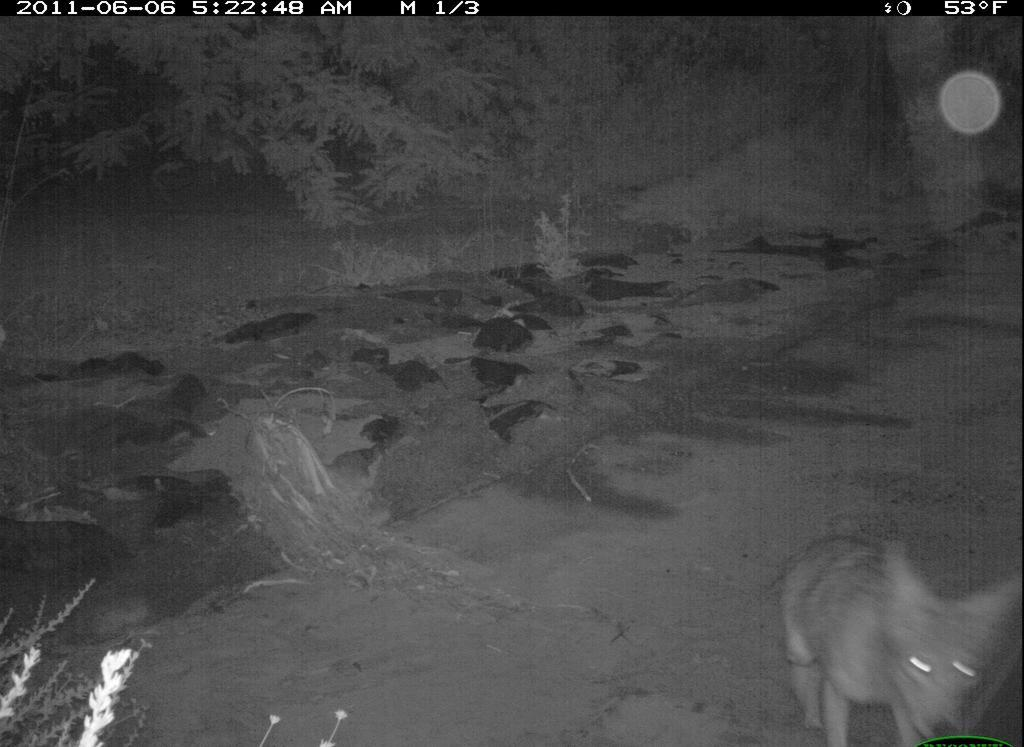coyote: (772, 523, 1023, 747)
